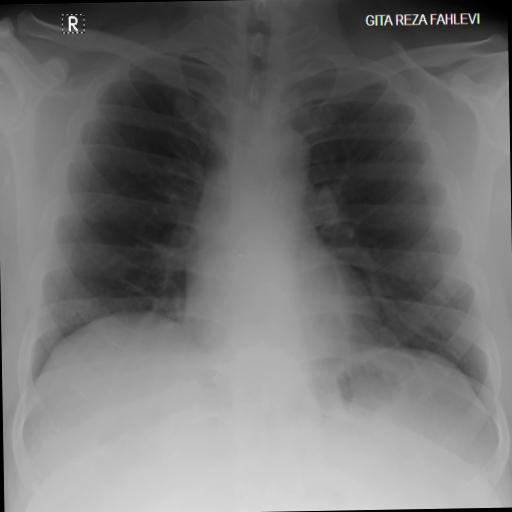normal: (13, 0, 506, 435)
